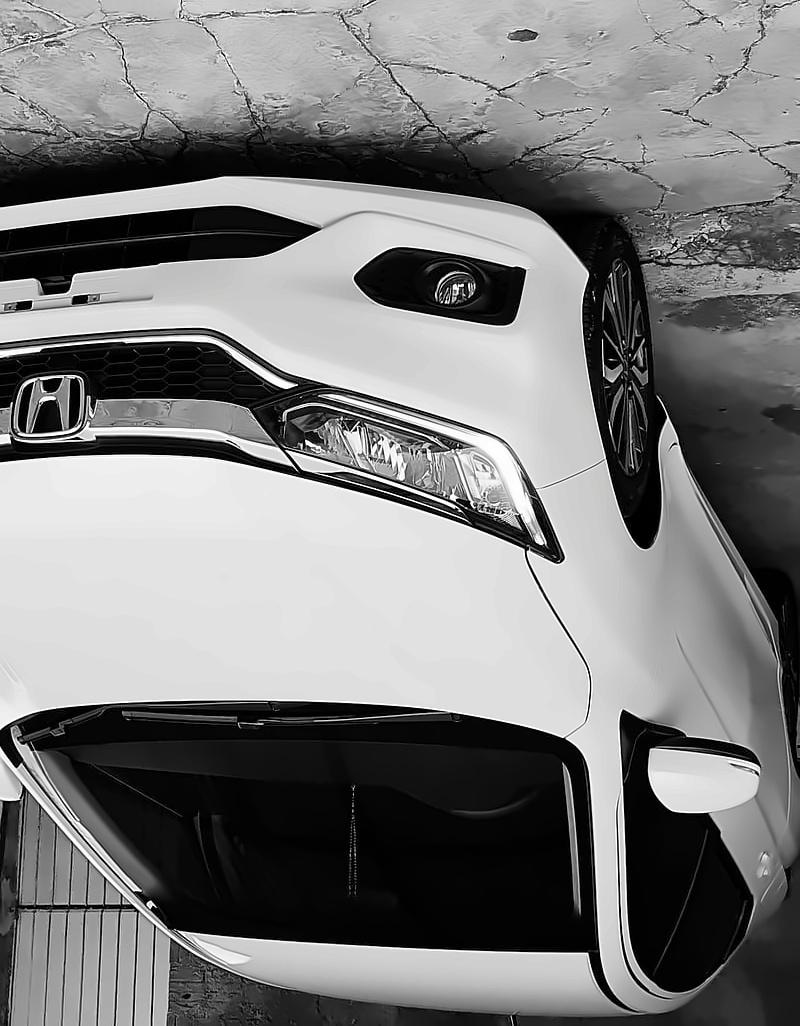Car hood: (0, 445, 600, 736)
Driver-s door - -F-R-: (600, 404, 703, 1007)
Fender - -F-R-: (532, 400, 677, 749)
Front bumper: (0, 158, 626, 400)
Headlight - -R-: (246, 374, 572, 567)
Passenger-s door - -R-R-: (674, 531, 786, 998)
Side bumper - -R-: (646, 384, 794, 670)
Side mirror - -L-: (0, 734, 36, 816)
Side mirror - -R-: (628, 722, 774, 823)
